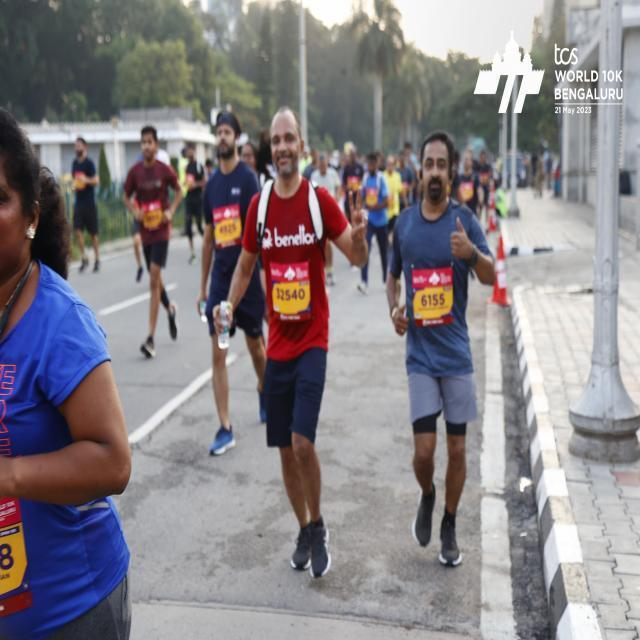dorsal: (269, 259, 309, 326), (412, 265, 453, 328)
